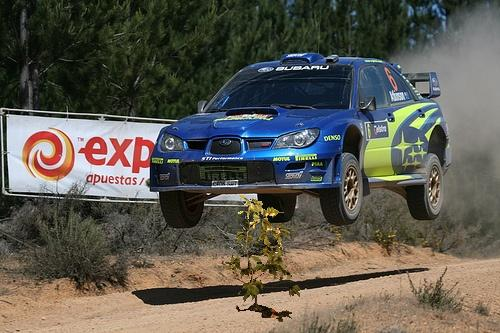tampered: (226, 196, 300, 322)
